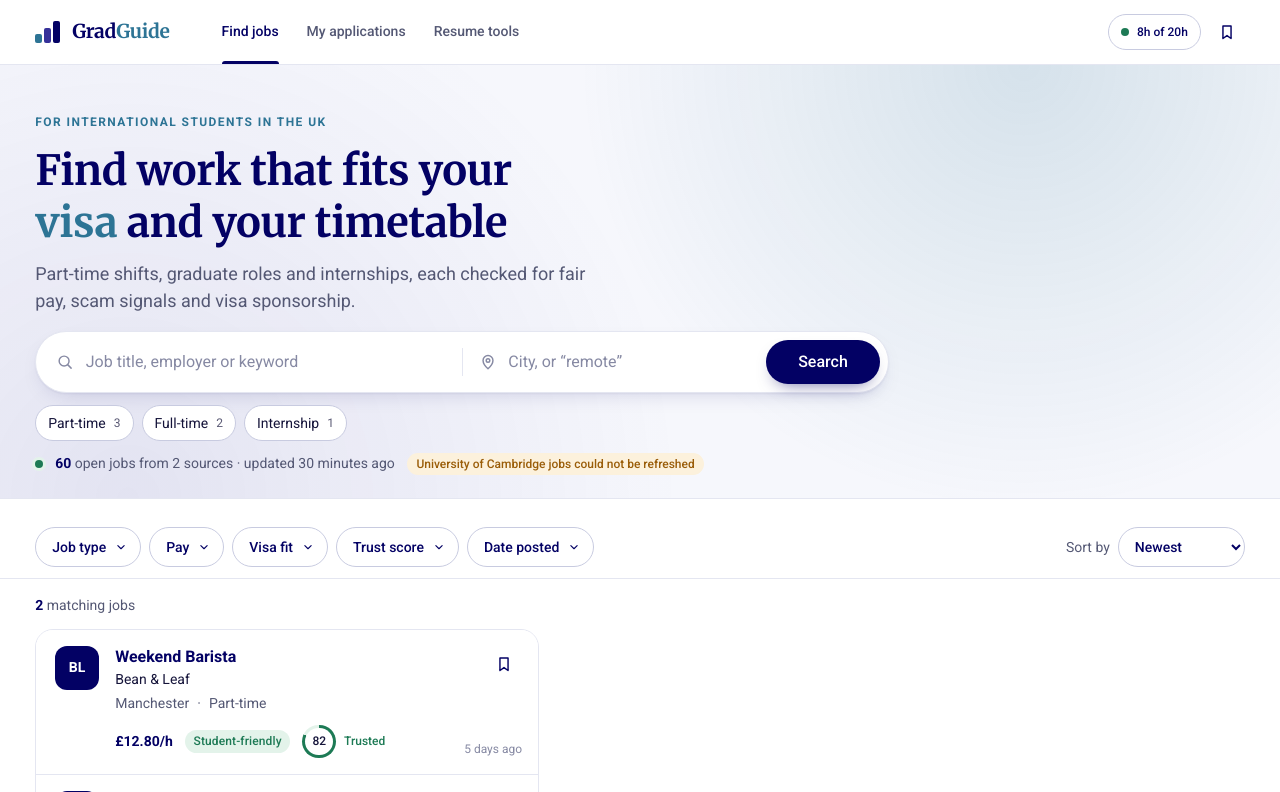
Test: JobsPage › searches after typing stops and keeps the query in the URL
Check: the link "Weekend Barista" is shown, box x1=115 y1=647 x2=236 y2=666
Type "intern" into the search field named "Search jobs" at (251,362), box x1=44 y1=340 x2=458 y2=384
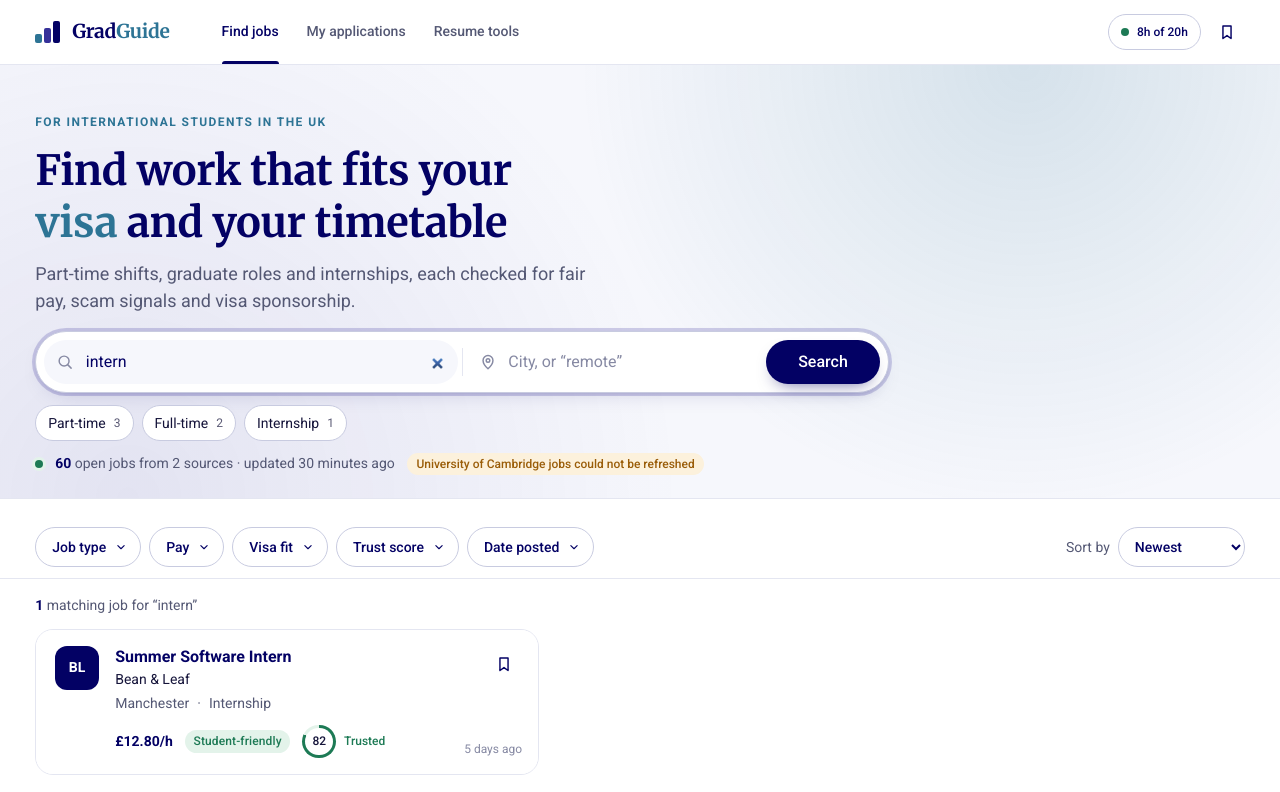
Check: the text "1 matching job for “intern”" is shown, box x1=35 y1=597 x2=197 y2=613
Check: the link "Weekend Barista" is gone
